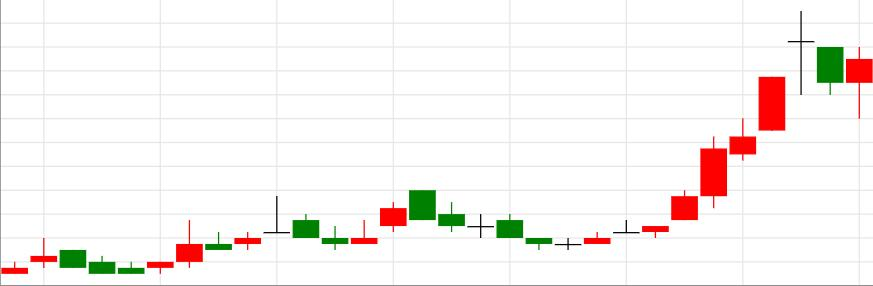evening_star_fall: (555, 11, 844, 249)
